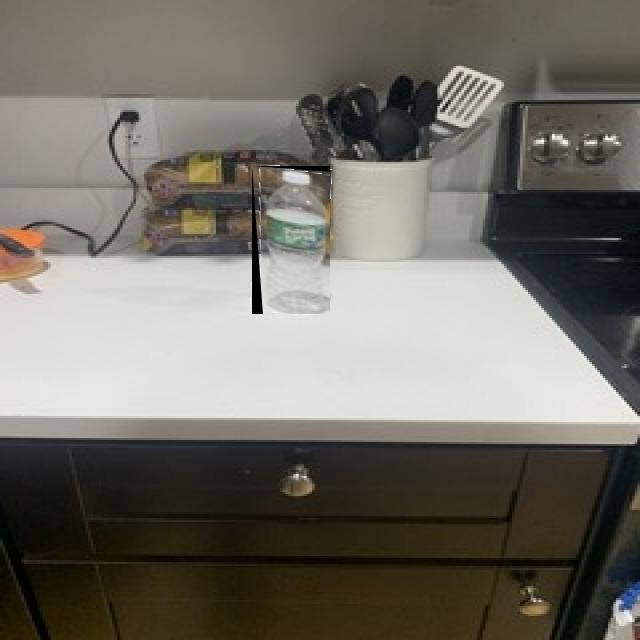water_bottle: (252, 166, 330, 314)
